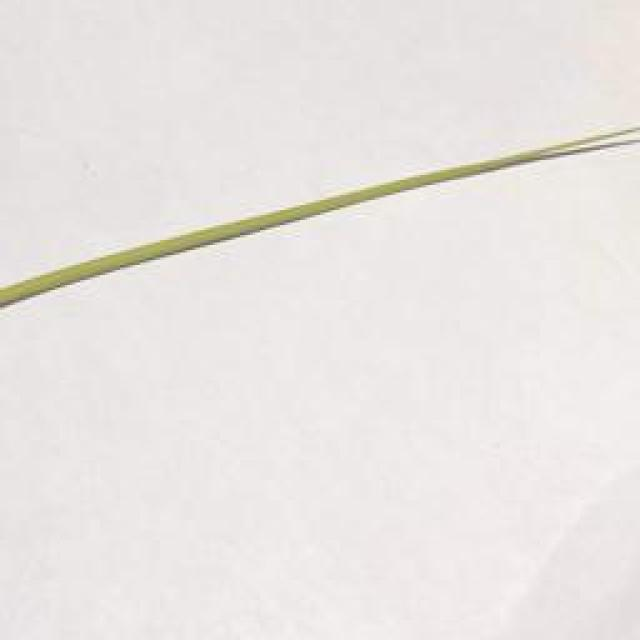Healthy-Plant: (0, 140, 636, 312)
